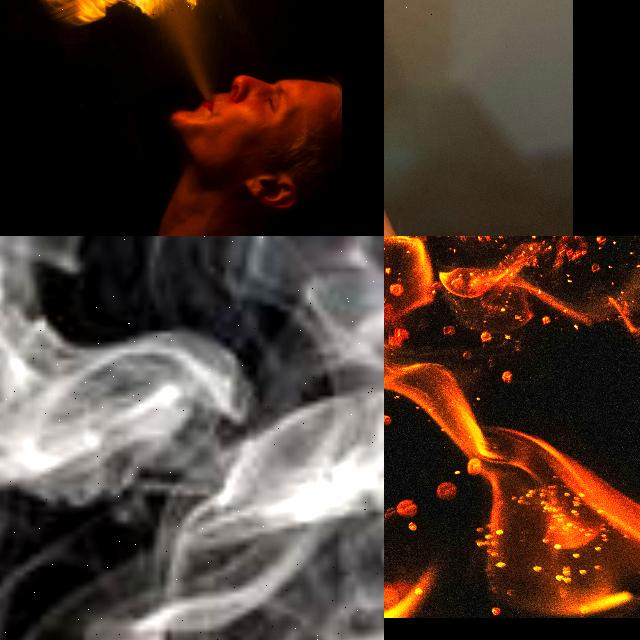fire: (384, 236, 640, 618)
smoke: (0, 236, 384, 640)
